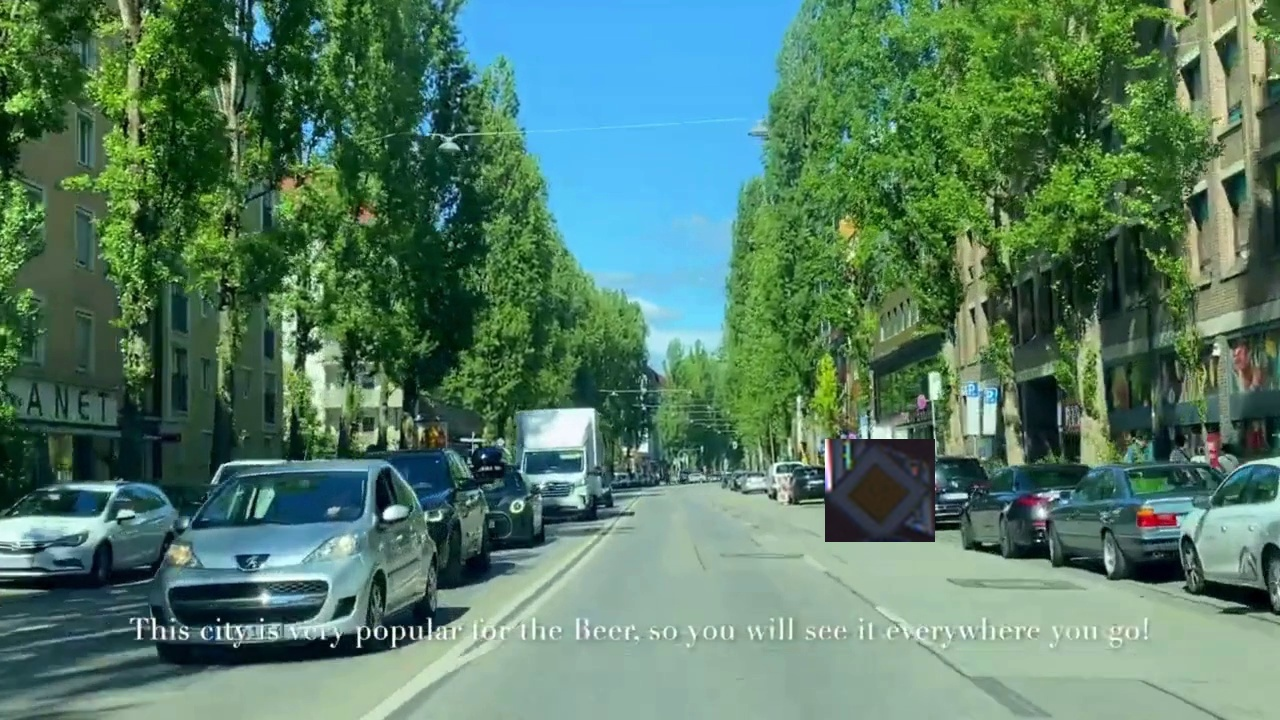Priority road: (825, 439, 935, 542)
